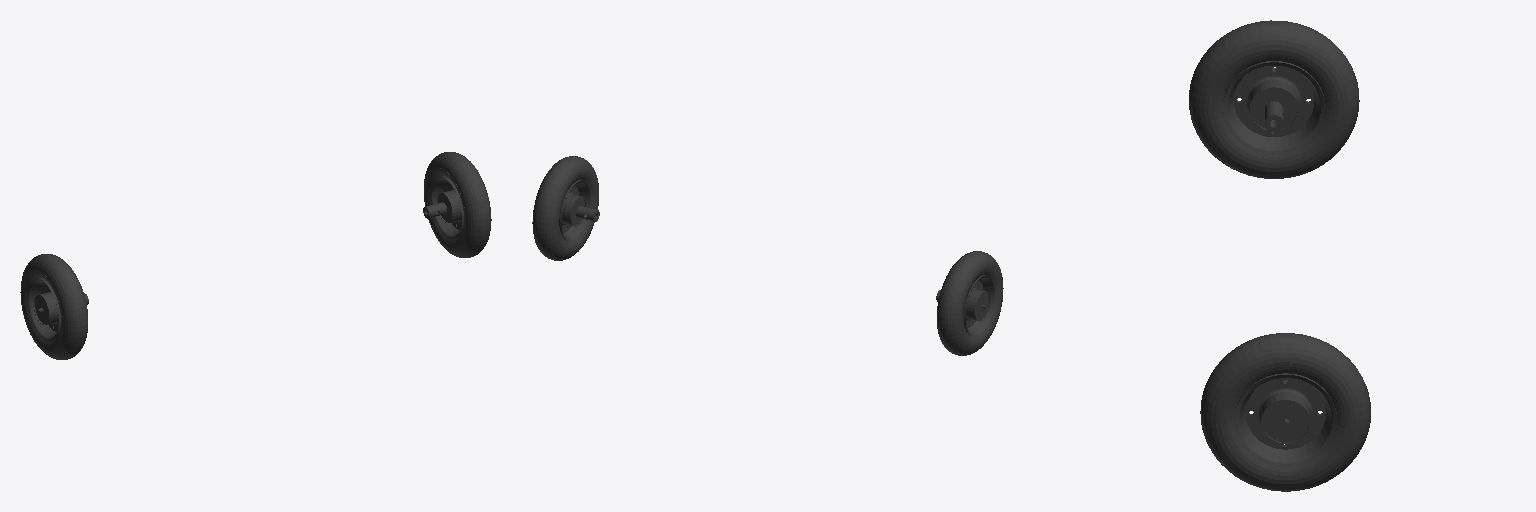
The robot description file, URDF, robot "exporter":
<?xml version="1.0" encoding="utf-8"?>
<!-- This URDF was automatically created by SolidWorks to URDF Exporter! Originally created by [author] ([email redacted]) 
     Commit Version: 1.6.0-1-g15f4949  Build Version: 1.6.7594.29634
     For more information, please see http://wiki.ros.org/sw_urdf_exporter -->
<robot
  name="exporter">
  <link
    name="base_link">
    <inertial>
      <origin
        xyz="-0.0183308231346785 -0.017077163575613 -0.276264487194015"
        rpy="0 0 0" />
      <mass
        value="72.4659208315973" />
      <inertia
        ixx="1.06454158849362"
        ixy="1.08506527863837E-06"
        ixz="6.27206520164231E-05"
        iyy="2.76304266663007"
        iyz="0.000828541520882374"
        izz="1.72405725288073" />
    </inertial>
    <visual>
      <origin
        xyz="0 0 0"
        rpy="0 0 0" />
      <geometry>
        <mesh
          filename="package://exporter/meshes/base_link.STL" />
      </geometry>
      <material
        name="">
        <color
          rgba="0.752941176470588 0.752941176470588 0.752941176470588 1" />
      </material>
    </visual>
    <collision>
      <origin
        xyz="0 0 0"
        rpy="0 0 0" />
      <geometry>
        <mesh
          filename="package://exporter/meshes/base_link.STL" />
      </geometry>
    </collision>
  </link>
  <link
    name="left_wheel">
    <inertial>
      <origin
        xyz="0.05265036863964 -3.44482810332725E-11 -4.6849857760628E-10"
        rpy="0 0 0" />
      <mass
        value="0.629986456774002" />
      <inertia
        ixx="0.00199867574004629"
        ixy="-7.93751342080599E-14"
        ixz="-1.00265685158614E-12"
        iyy="0.0010664866300675"
        iyz="1.5096348853611E-12"
        izz="0.00106649815262516" />
    </inertial>
    <visual>
      <origin
        xyz="0 0 0"
        rpy="0 0 0" />
      <geometry>
        <mesh
          filename="package://exporter/meshes/left_wheel.STL" />
      </geometry>
      <material
        name="">
        <color
          rgba="0.298039215686275 0.298039215686275 0.298039215686275 1" />
      </material>
    </visual>
    <collision>
      <origin
        xyz="0 0 0"
        rpy="0 0 0" />
      <geometry>
        <mesh
          filename="package://exporter/meshes/left_wheel.STL" />
      </geometry>
    </collision>
  </link>
  <joint
    name="left_wheel"
    type="revolute">
    <origin
      xyz="-0.30035 -0.0069235 -0.02554"
      rpy="1.5834 0 -3.1412" />
    <parent
      link="base_link" />
    <child
      link="left_wheel" />
    <axis
      xyz="1 0 0" />
    <limit
      lower="0"
      upper="0"
      effort="0"
      velocity="0" />
  </joint>
  <link
    name="right_wheel">
    <inertial>
      <origin
        xyz="0.052716744272187 -3.45974186799491E-11 -4.68491362023982E-10"
        rpy="0 0 0" />
      <mass
        value="0.629986456768948" />
      <inertia
        ixx="0.00199867574004617"
        ixy="-7.98180095041565E-14"
        ixz="-1.00282061320392E-12"
        iyy="0.00106648663006701"
        iyz="1.50972578227153E-12"
        izz="0.00106649815262514" />
    </inertial>
    <visual>
      <origin
        xyz="0 0 0"
        rpy="0 0 0" />
      <geometry>
        <mesh
          filename="package://exporter/meshes/right_wheel.STL" />
      </geometry>
      <material
        name="">
        <color
          rgba="0.298039215686275 0.298039215686275 0.298039215686275 1" />
      </material>
    </visual>
    <collision>
      <origin
        xyz="0 0 0"
        rpy="0 0 0" />
      <geometry>
        <mesh
          filename="package://exporter/meshes/right_wheel.STL" />
      </geometry>
    </collision>
  </link>
  <joint
    name="right_wheel"
    type="revolute">
    <origin
      xyz="0.28138 0.0038748 -0.02554"
      rpy="1.5708 0 -0.00041737" />
    <parent
      link="base_link" />
    <child
      link="right_wheel" />
    <axis
      xyz="1 0 0" />
    <limit
      lower="0"
      upper="0"
      effort="0"
      velocity="0" />
  </joint>
</robot>

--- Facts derived from the render (not from the file) ---
Views: 3 orthographic renders of the robot side by side, from view 1: azimuth 30°, elevation 25°; view 2: azimuth 150°, elevation 25°; view 3: azimuth 270°, elevation 25°.
Robot: exporter — 3 links, 2 joints (2 revolute); root link base_link; default pose: every joint at zero.
Visible links, largest first — view 1: left_wheel, right_wheel; view 2: right_wheel, left_wheel; view 3: right_wheel, left_wheel.
Boxes of the visible links, left/top/right/bottom form: left_wheel: left=20, top=254, right=88, bottom=359; right_wheel: left=423, top=152, right=491, bottom=257; right_wheel: left=532, top=156, right=599, bottom=260; left_wheel: left=936, top=251, right=1003, bottom=355; right_wheel: left=1200, top=333, right=1370, bottom=491; left_wheel: left=1189, top=20, right=1359, bottom=178.
Size in the robot's own frame: 0.7418 by 0.1695 by 0.1586 metres.
Meshes: 3 distinct files referenced, 2 mesh visuals loaded (2 binary STL); not drawn: 1 (reference not matched to a file when rendering).